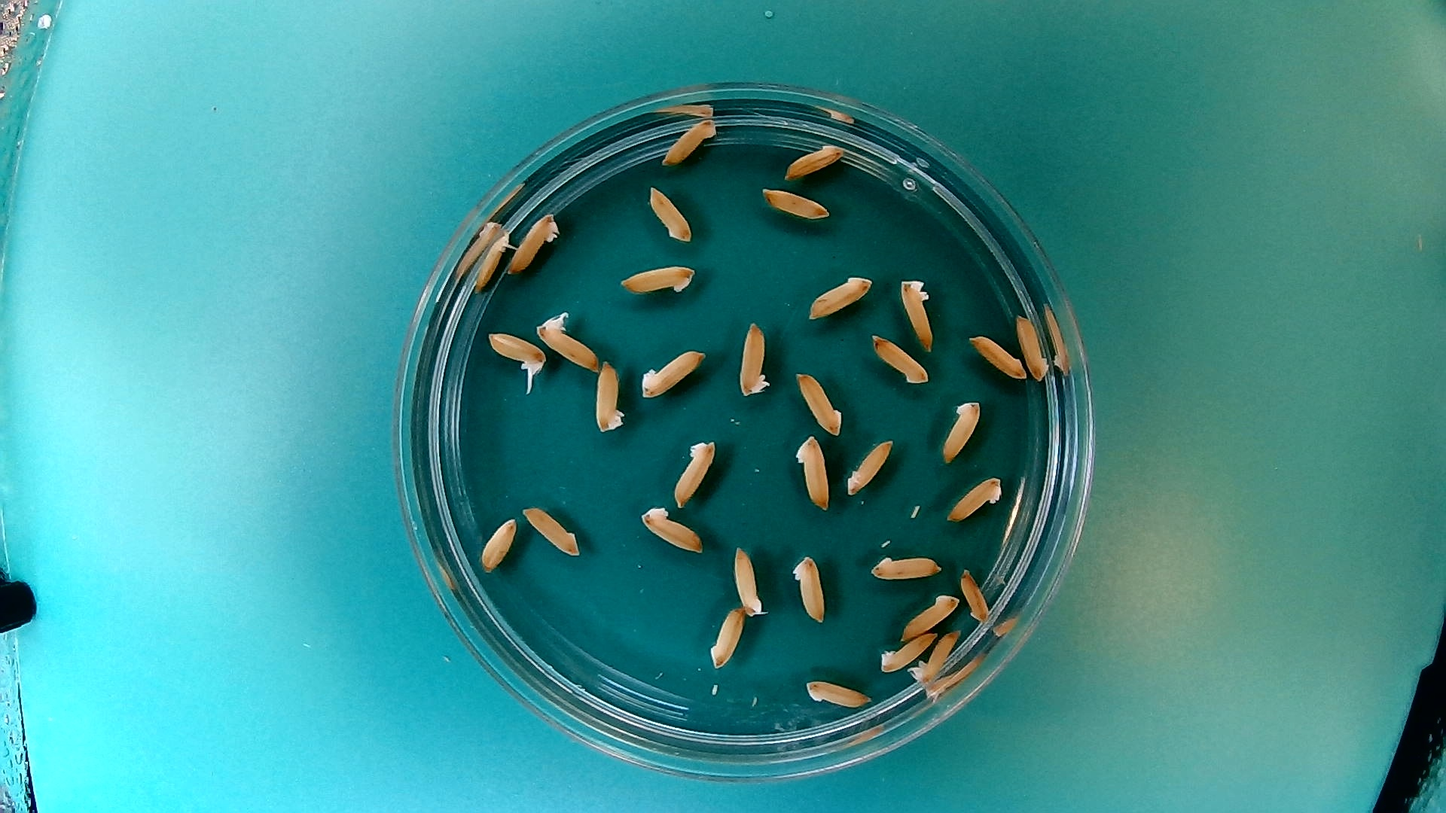no: (903, 626, 962, 697), (638, 344, 709, 400), (670, 434, 719, 509), (868, 331, 932, 388), (639, 503, 707, 556), (938, 394, 986, 467), (794, 367, 844, 437), (521, 501, 581, 559), (508, 209, 561, 274), (805, 272, 875, 321), (658, 113, 721, 167), (943, 471, 1005, 524), (792, 431, 832, 513), (875, 629, 941, 678), (615, 260, 700, 298), (844, 434, 895, 497), (899, 589, 959, 641), (789, 550, 830, 626), (900, 273, 938, 353), (966, 333, 1028, 382), (737, 316, 772, 399), (644, 184, 694, 242), (732, 541, 768, 620), (707, 602, 748, 671), (781, 139, 847, 181), (1014, 311, 1051, 385), (593, 355, 627, 435), (759, 187, 833, 223), (477, 513, 520, 574), (801, 677, 872, 711), (870, 550, 948, 580), (956, 566, 995, 624)
yes: (535, 309, 603, 373), (485, 327, 548, 381), (471, 230, 514, 293)
